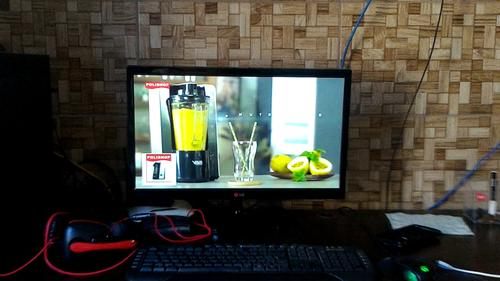Polishop #1: (142, 153, 176, 186)
